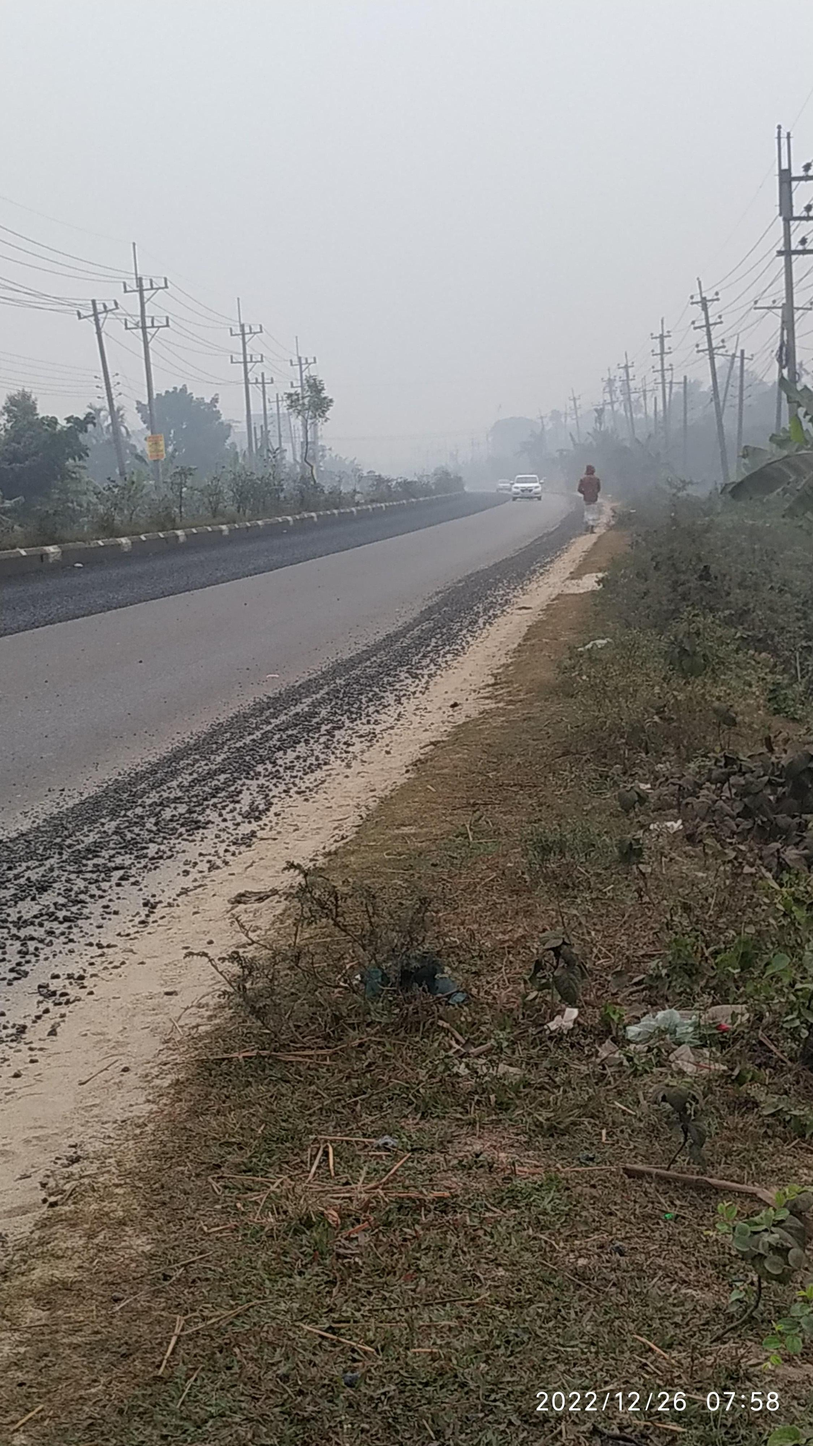Car: (506, 468, 557, 509)
